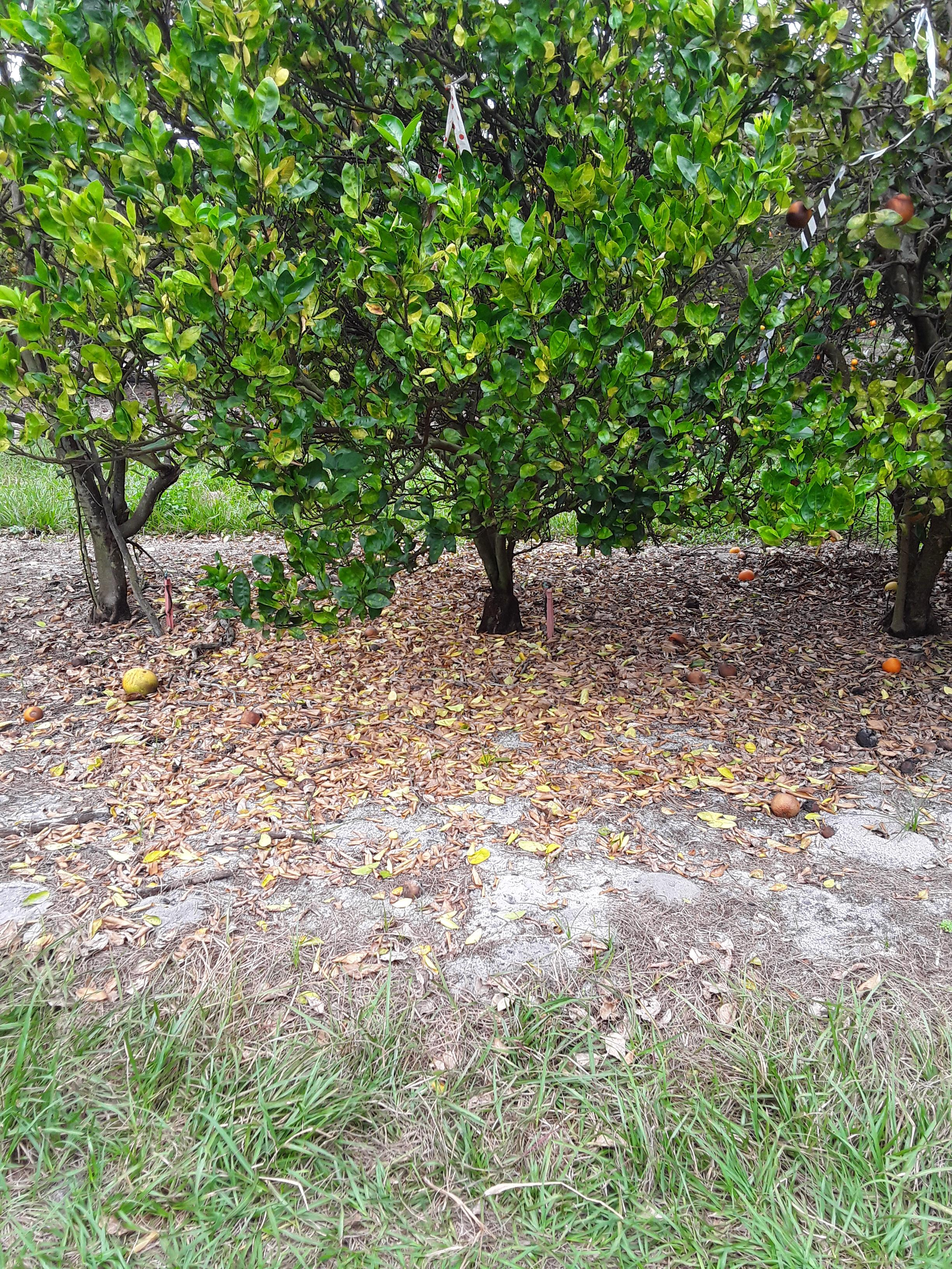fruit_on_ground: (883, 193, 915, 225), (784, 202, 813, 229), (7, 246, 15, 255), (9, 267, 19, 273)
fruit_on_tree: (122, 667, 159, 697), (771, 792, 801, 818), (856, 728, 880, 747), (403, 880, 424, 900), (239, 709, 262, 727), (882, 657, 903, 675), (688, 669, 708, 686), (23, 706, 44, 722), (718, 664, 737, 678), (71, 656, 90, 669), (671, 632, 688, 646), (738, 570, 756, 582), (901, 761, 917, 774), (884, 580, 900, 592), (363, 627, 379, 638), (728, 546, 740, 553), (736, 551, 746, 558), (870, 318, 876, 327), (851, 358, 858, 365), (855, 327, 861, 333), (822, 307, 827, 311)
